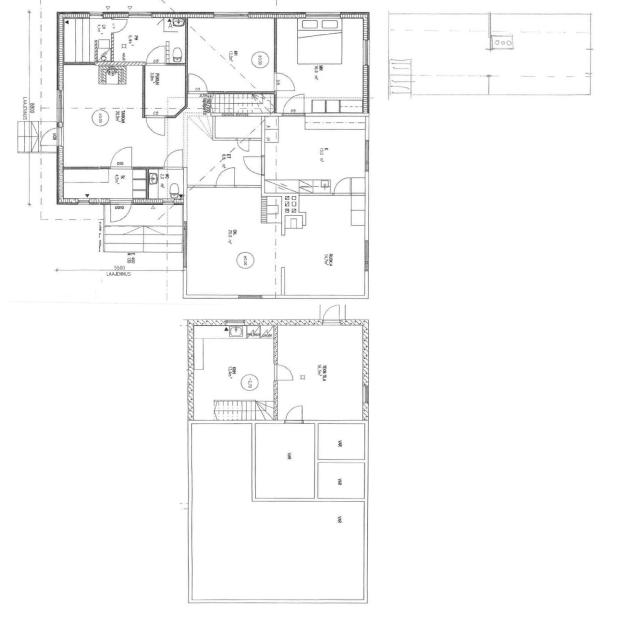door: (108, 143, 136, 170), (142, 111, 168, 139), (318, 302, 344, 327), (241, 150, 266, 176), (214, 164, 238, 190), (107, 198, 131, 224), (271, 70, 297, 93), (280, 92, 306, 115), (162, 146, 186, 170), (272, 360, 296, 383), (184, 71, 209, 93), (144, 43, 168, 65), (332, 175, 356, 196), (283, 403, 305, 425), (41, 125, 62, 148), (110, 16, 128, 34)
window: (208, 9, 254, 21), (301, 9, 342, 19), (72, 196, 101, 209), (361, 139, 372, 166), (125, 10, 154, 20), (86, 10, 107, 19)
zone: (182, 188, 280, 298), (277, 195, 368, 300), (273, 14, 369, 113), (273, 324, 366, 422), (59, 66, 144, 167), (261, 117, 367, 195), (187, 328, 275, 421), (486, 24, 590, 95), (186, 17, 274, 92), (406, 16, 489, 94), (185, 115, 262, 185), (252, 421, 315, 502), (111, 16, 185, 64), (142, 64, 185, 117), (316, 422, 366, 461), (316, 462, 365, 501), (58, 167, 105, 205), (57, 15, 92, 65), (145, 167, 185, 204), (388, 59, 414, 87), (490, 33, 515, 51)
